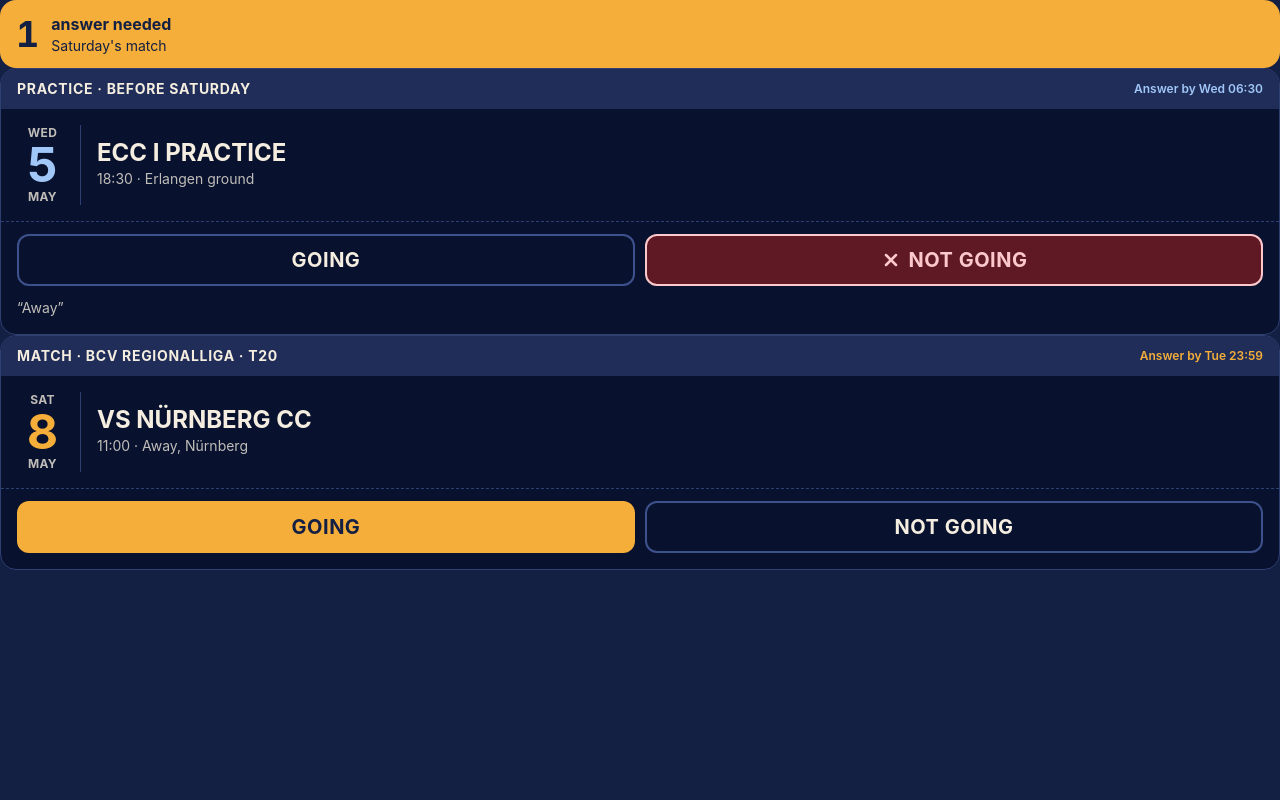
it: OwnWeek › puts the earlier answer back and says why when saving fails
Click the button "Going" below "18:30 · Erlangen ground". click: (326,260)
box: [17, 234, 635, 286]
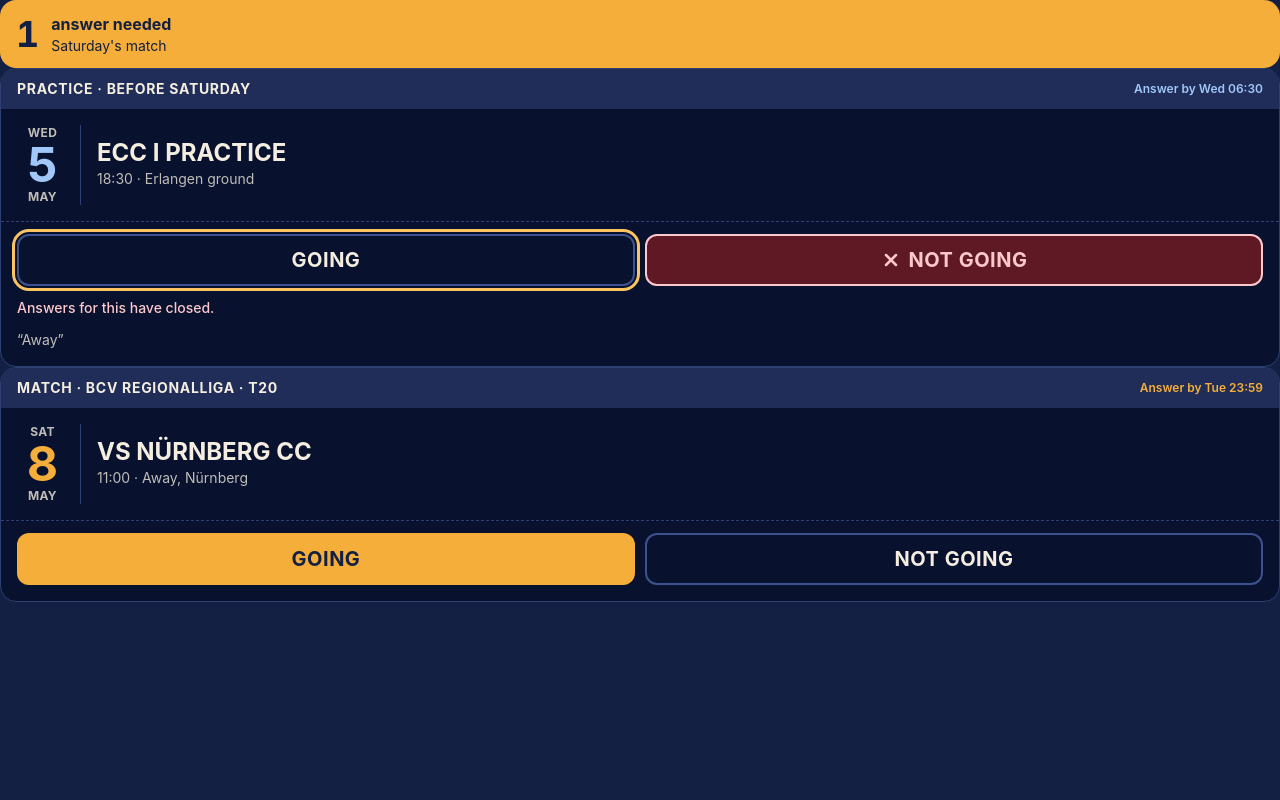
Expected: the text "Answers for this have closed." is shown, [17, 299, 214, 316]
Click the button "Going" below "11:00 · Away, Nürnberg". click: (326,559)
box: [17, 533, 635, 585]
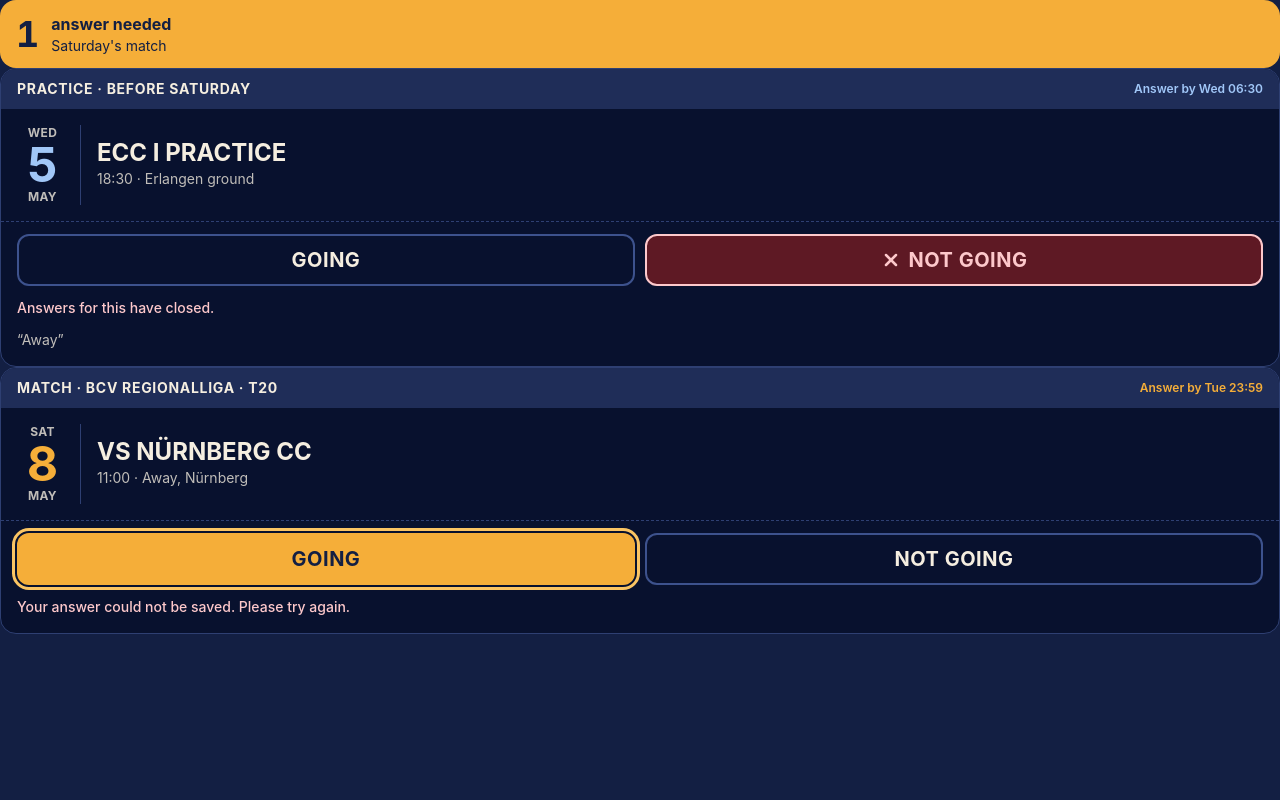
Expected: the text "Your answer could not be saved. Please try again." is shown, [17, 598, 350, 615]
